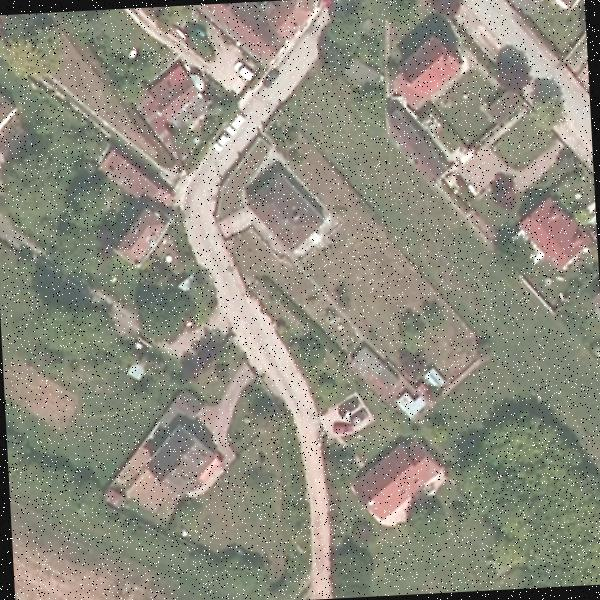Buildings: (234, 166, 330, 247), (103, 160, 172, 264), (202, 1, 300, 51), (151, 429, 220, 496), (144, 64, 206, 136), (526, 202, 586, 266), (361, 449, 431, 502), (400, 47, 450, 108), (399, 123, 437, 165), (0, 81, 13, 133)
